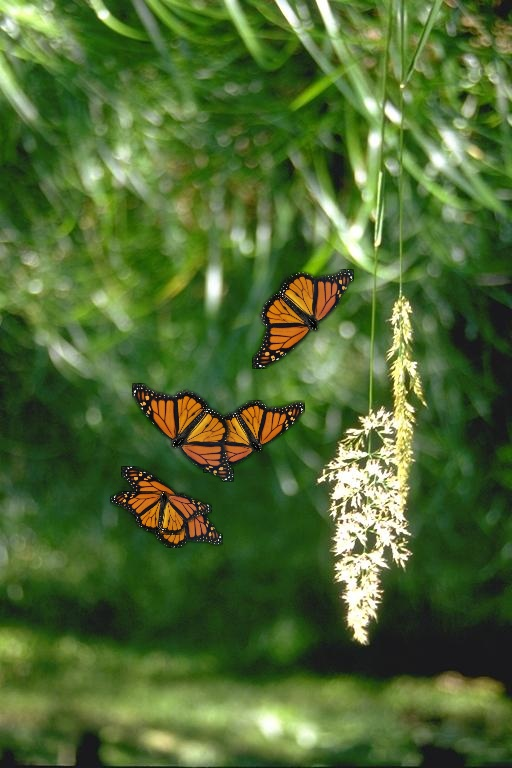danaus_plexippus: (252, 269, 354, 369), (132, 383, 234, 482), (121, 466, 223, 548), (203, 400, 305, 473), (110, 491, 212, 535)
